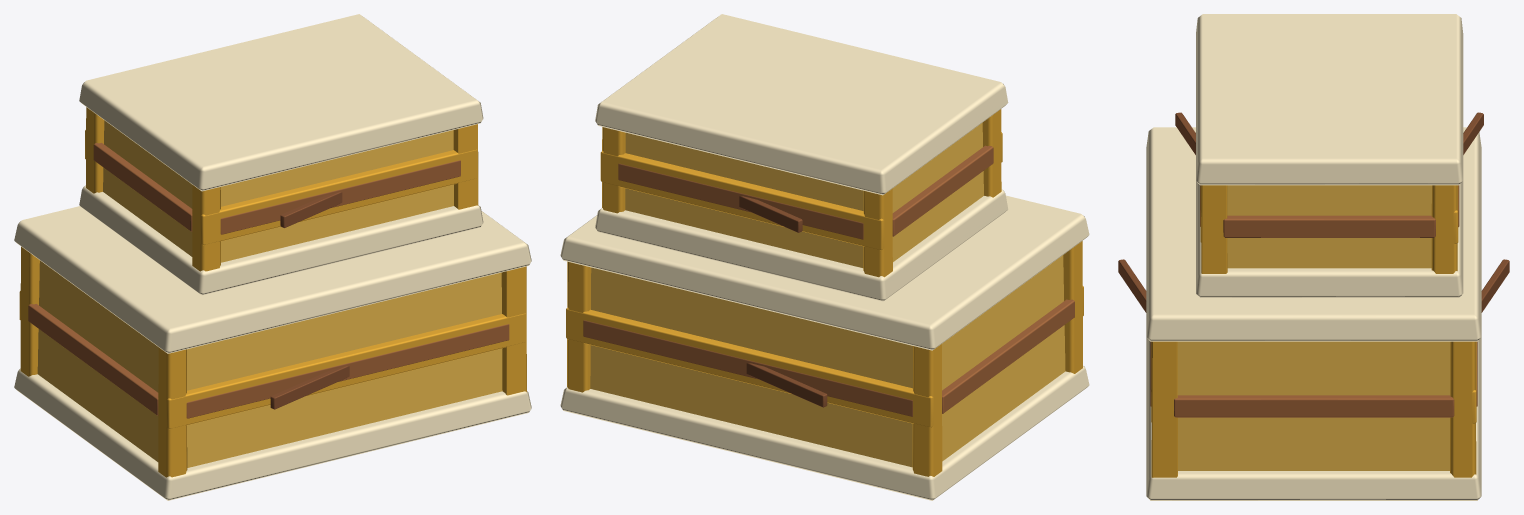
The model's file is b_crate_wall.glb.
3 renders of one model, left to right at view 1: azimuth 30°, elevation 25°; view 2: azimuth 150°, elevation 25°; view 3: azimuth 270°, elevation 25°, orthographic. The views are drawn at different scales.
Parts seen in each view (by area): view 1: b_crate_wall; view 2: b_crate_wall; view 3: b_crate_wall.
Part boxes in pixels (x1,y1,x2,y2): b_crate_wall: (14, 14, 531, 500); b_crate_wall: (560, 14, 1089, 500); b_crate_wall: (1118, 14, 1509, 500).
Bounding box in the file's own units: 2.36 × 1.85 × 2.01.
